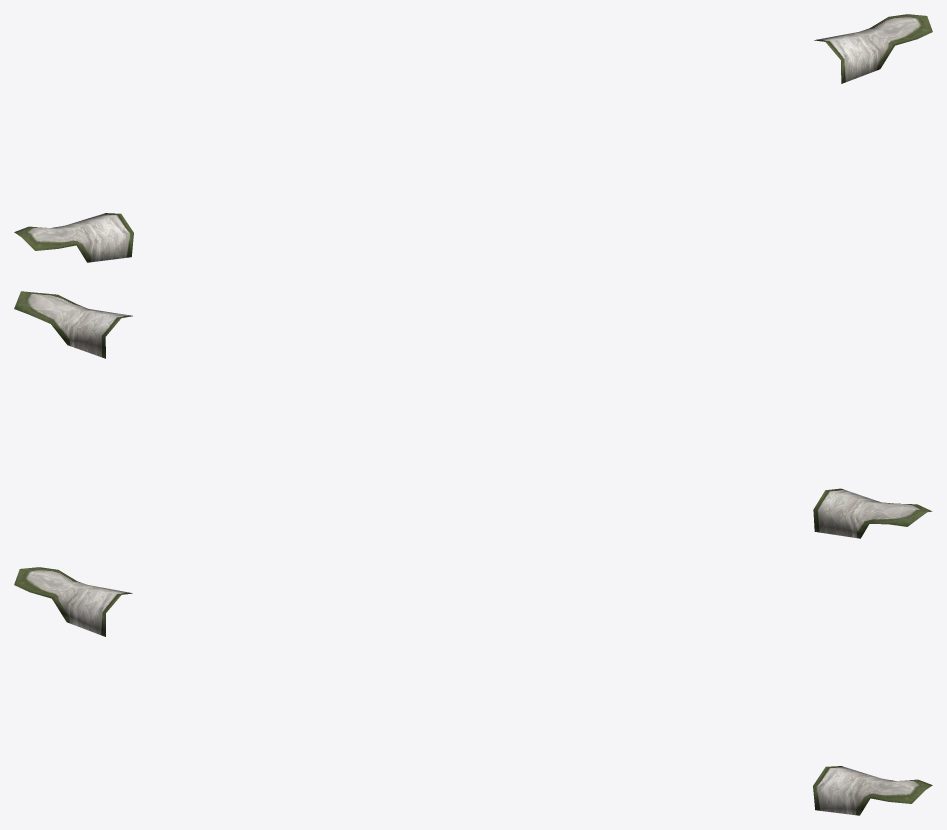
Rendered from clothes_01_aa.glb.
3 renders of one model, top to bottom at view 1: azimuth 30°, elevation 25°; view 2: azimuth 150°, elevation 25°; view 3: azimuth 330°, elevation 25°, orthographic.
Visible parts, largest first — view 1: clothes_01_aa; view 2: clothes_01_aa; view 3: clothes_01_aa.
Part boxes in pixels (left/top/right/bottom): clothes_01_aa: left=14, top=14, right=932, bottom=262; clothes_01_aa: left=14, top=291, right=932, bottom=538; clothes_01_aa: left=14, top=567, right=932, bottom=815.
Size of the model in its own units: 1.58 by 0.0737 by 0.0874.
Materials: 1 (1 with a texture image).
